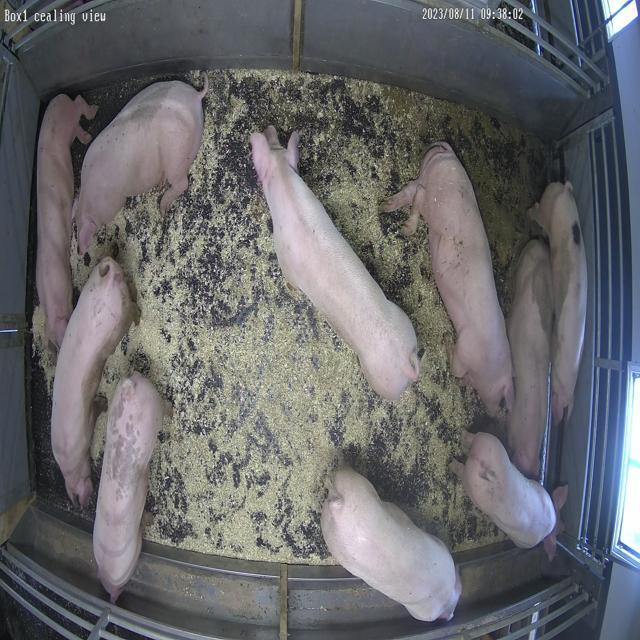Dirt: (392, 96, 546, 226), (488, 215, 531, 318)
Pig: (251, 126, 420, 402), (383, 142, 515, 416), (73, 75, 208, 254), (322, 468, 462, 622), (51, 257, 136, 506), (93, 373, 162, 602), (35, 94, 96, 348), (537, 182, 589, 424), (460, 433, 557, 548), (509, 239, 555, 478)
